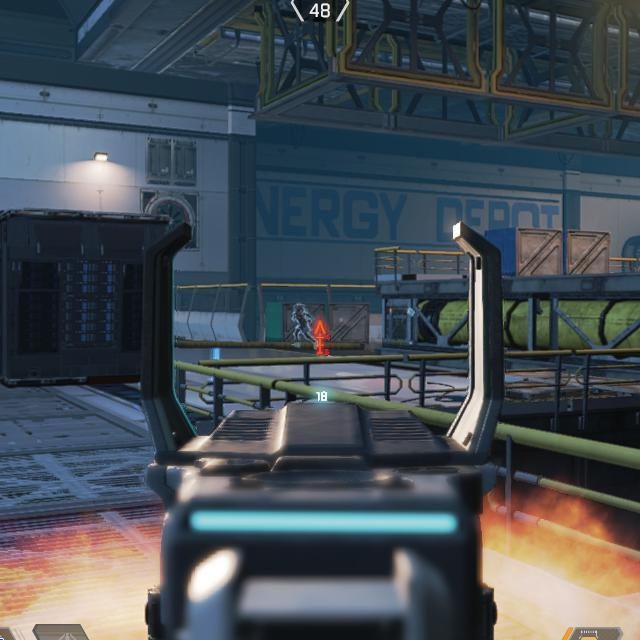avatar: (290, 301, 313, 346)
